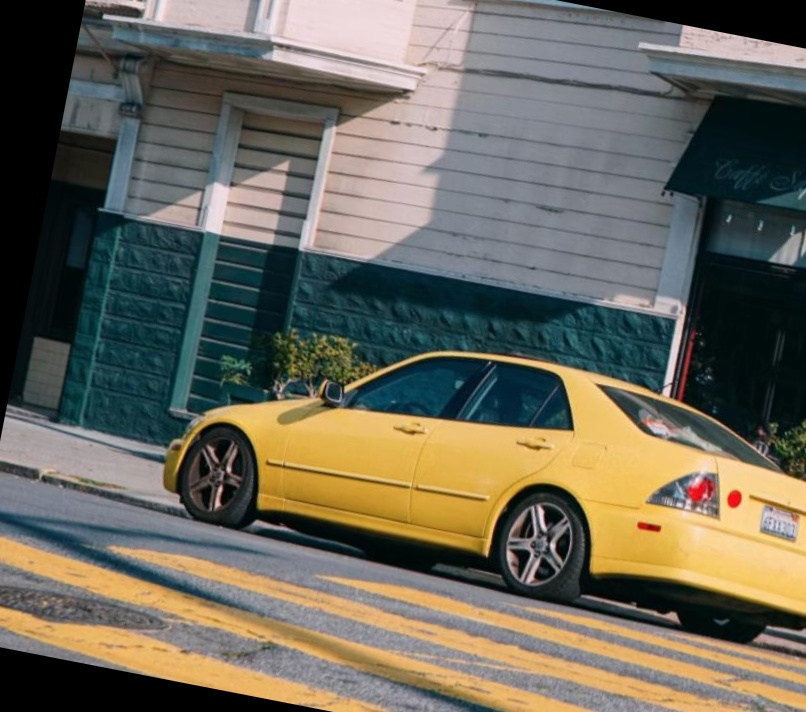car: (130, 260, 806, 679)
